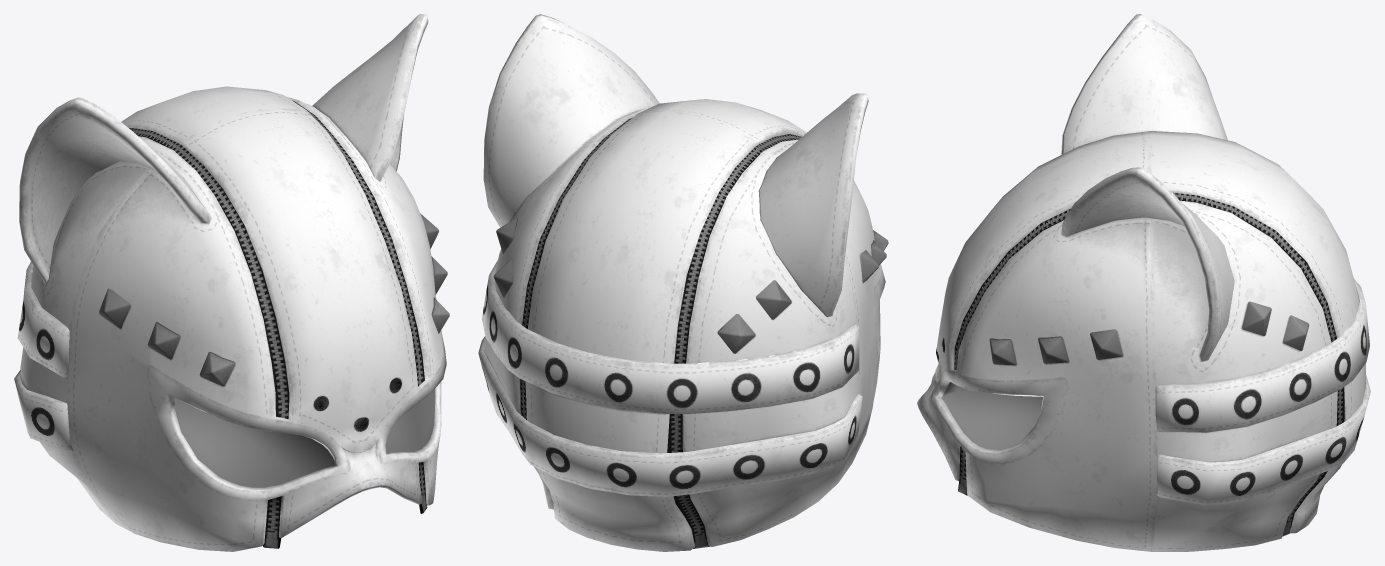
File: SurvivorMale_Head_Mask_Catwoman_LOD0.glb
The picture shows the model from 3 angles, left to right: view 1: azimuth 30°, elevation 25°; view 2: azimuth 150°, elevation 25°; view 3: azimuth 270°, elevation 25°; orthographic projection. The views are drawn at different scales.
Parts seen in each view (by area): view 1: Hoodie; view 2: Hoodie; view 3: Hoodie.
Part boxes in pixels (<box>): Hoodie: <box>14,14,449,551</box>; Hoodie: <box>478,14,888,551</box>; Hoodie: <box>917,14,1370,551</box>.
Size of the model in its own units: 0.2068 by 0.2299 by 0.2294.
1 material, 1 textured.
